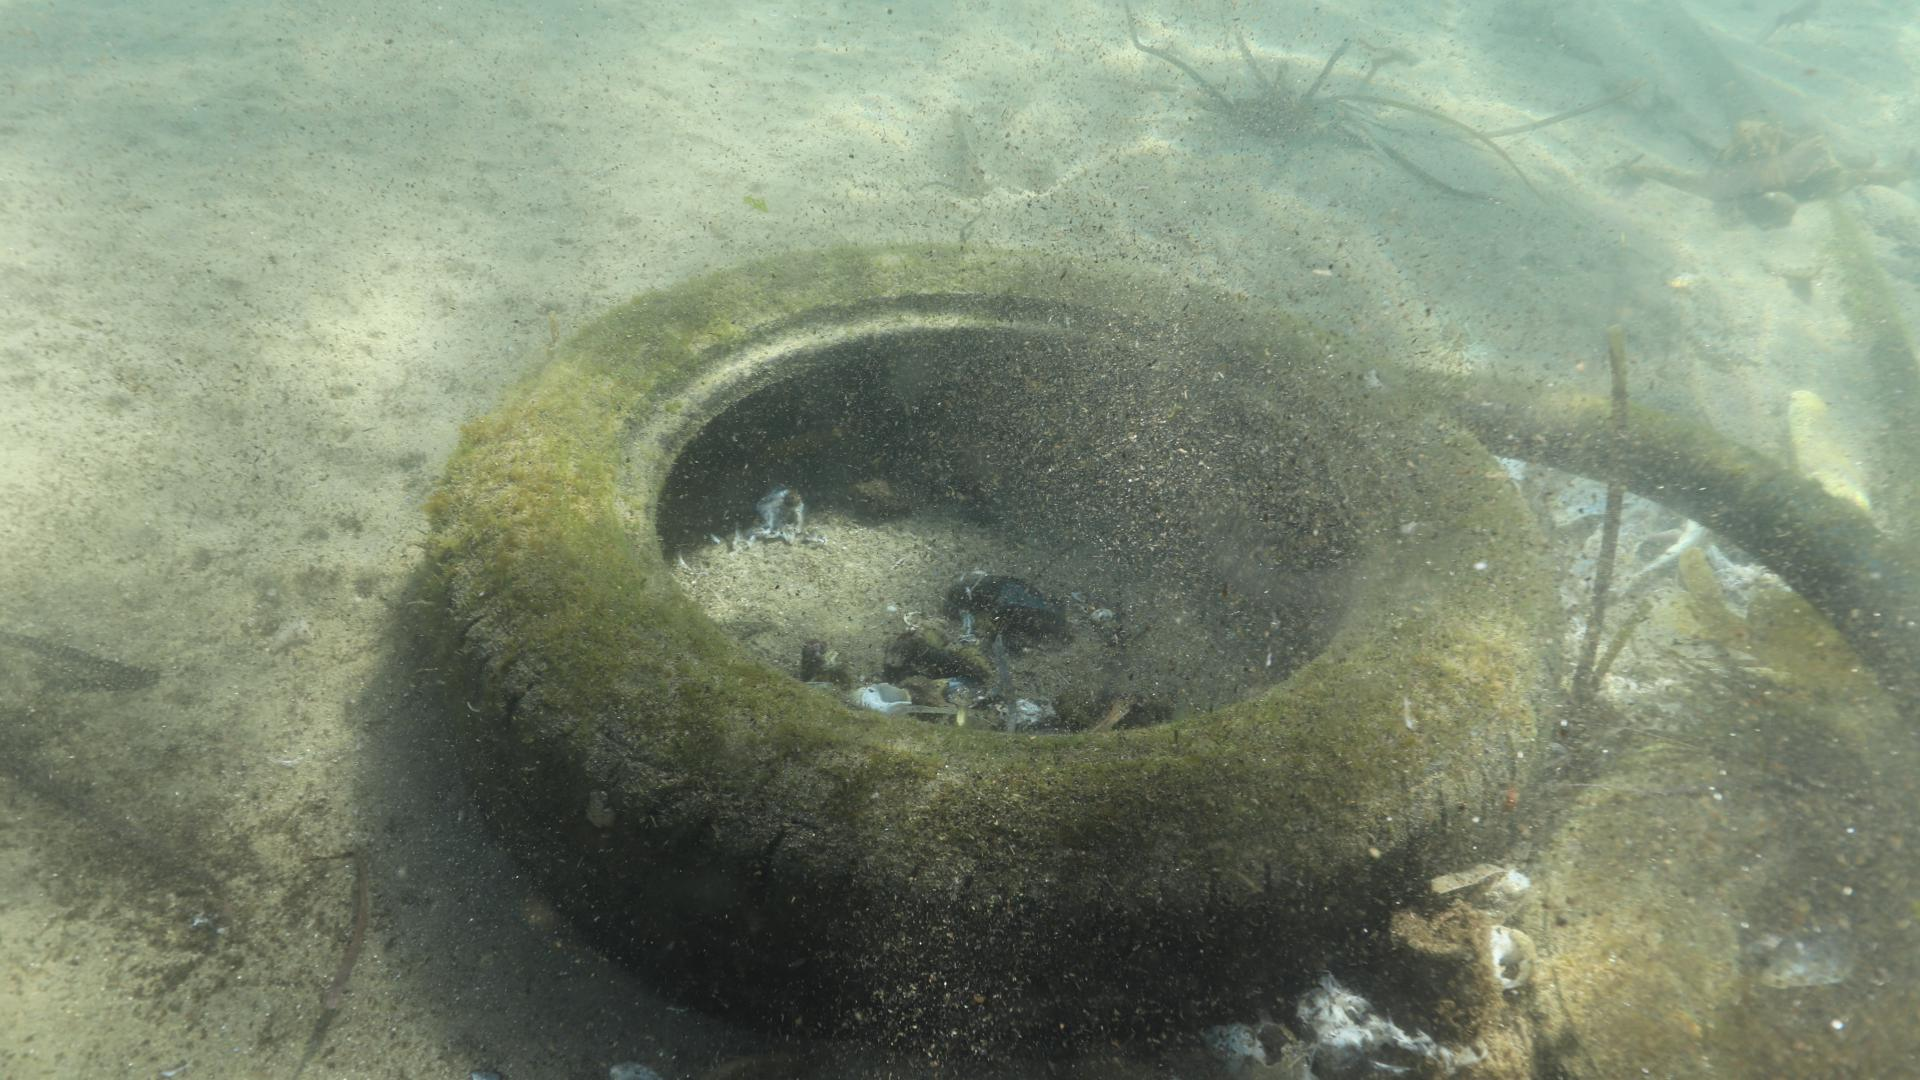tire: (440, 240, 1564, 1052)
